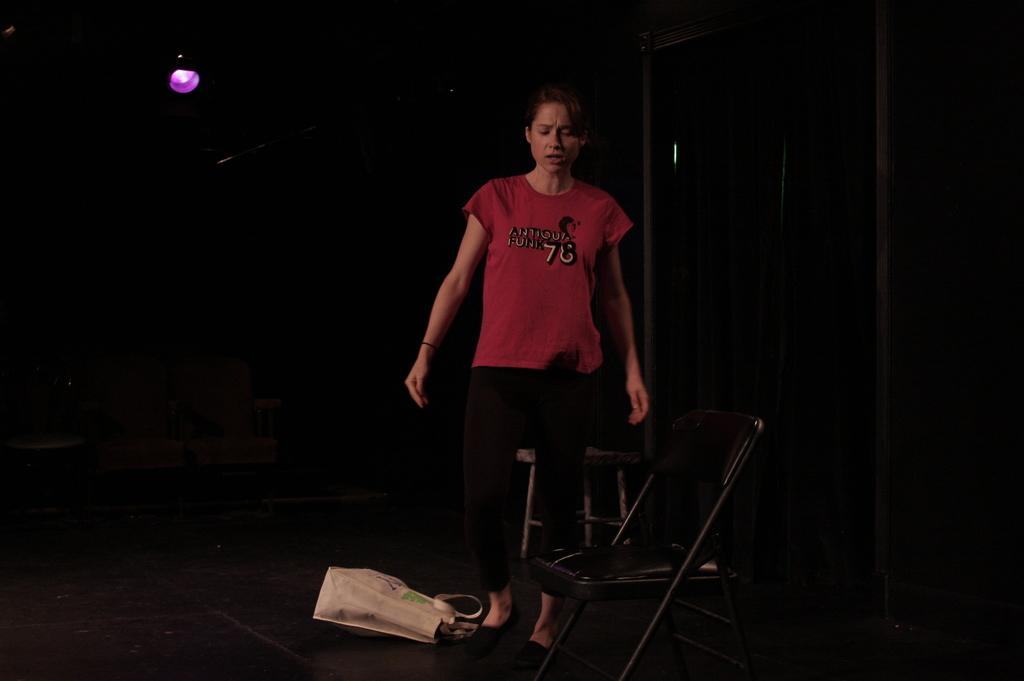Chair: (519, 412, 778, 665)
